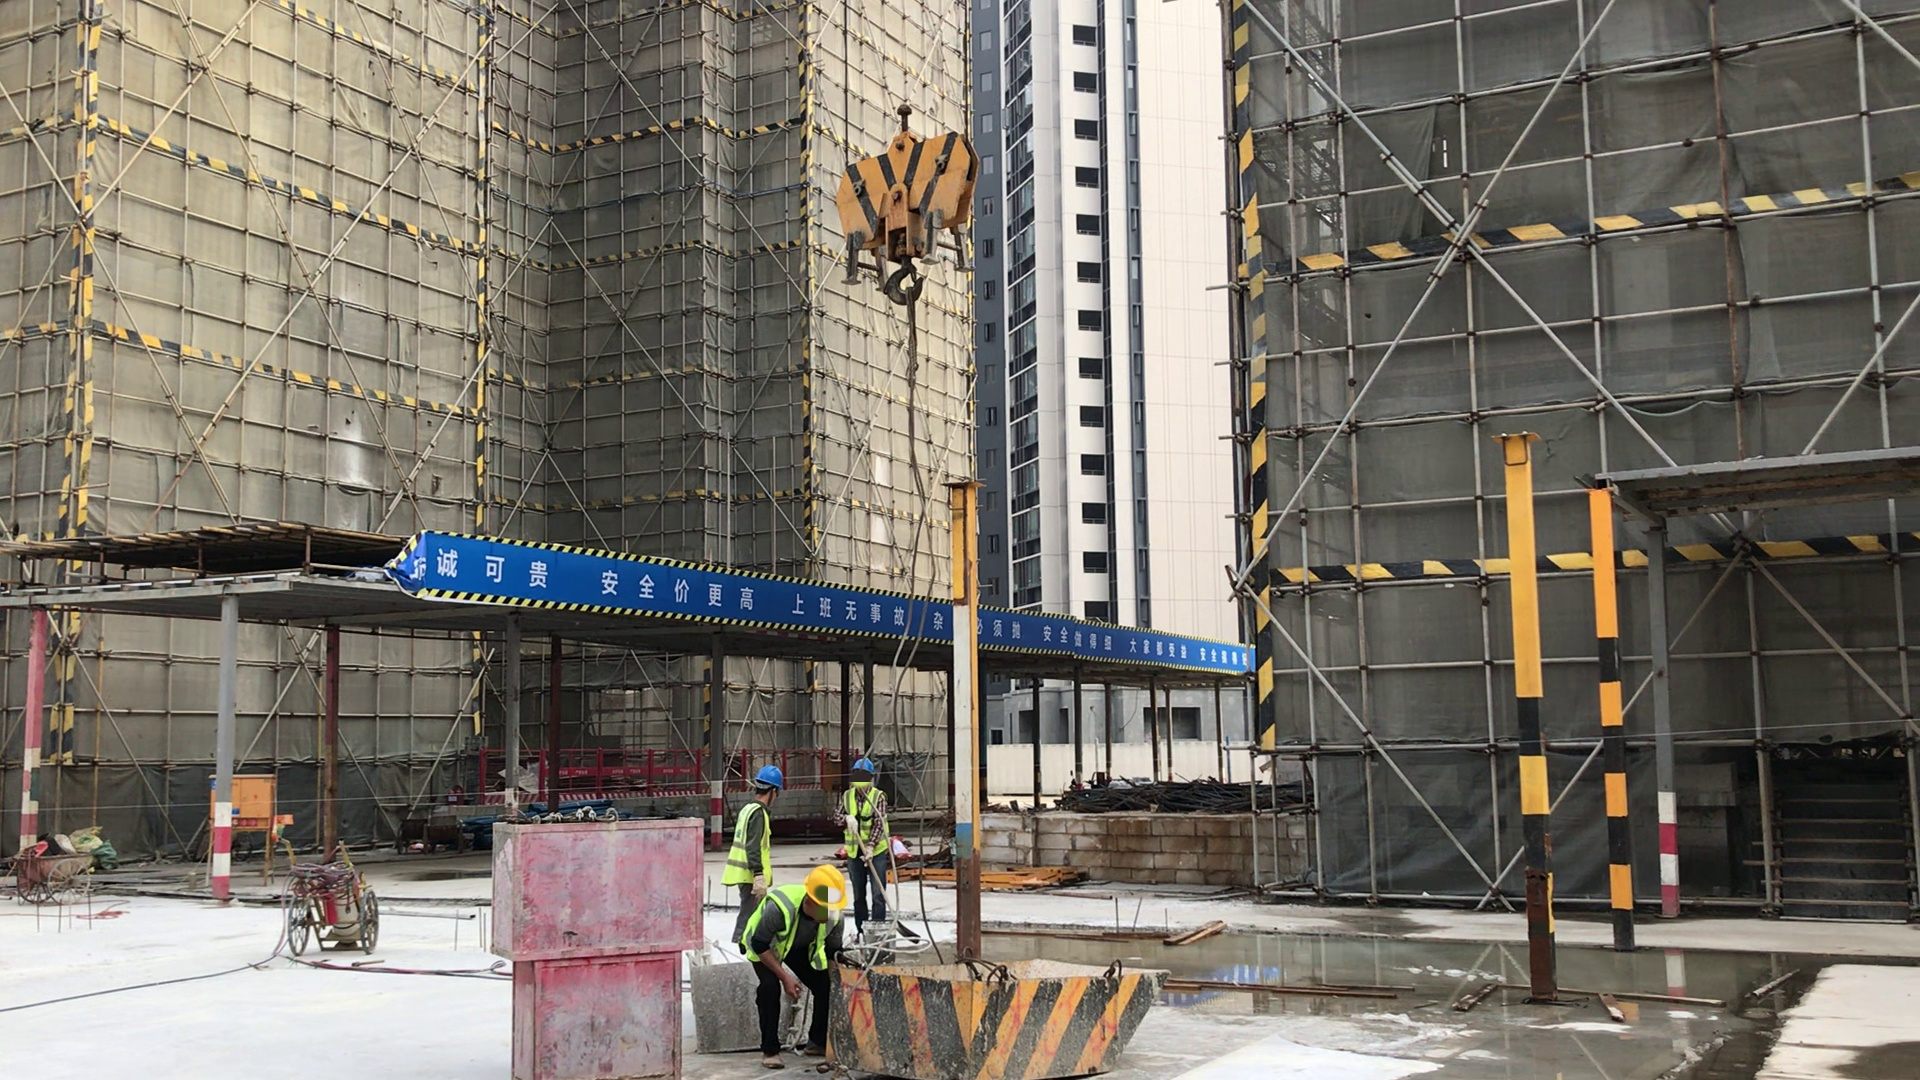ebox: (233, 768, 288, 885)
fence: (428, 537, 941, 648), (982, 605, 1252, 674), (565, 744, 710, 801), (790, 747, 831, 791)
handcart: (277, 841, 381, 958), (1, 854, 93, 912)
helmet: (801, 865, 847, 912), (752, 764, 785, 795), (851, 759, 875, 776)
hook: (834, 95, 974, 302)
hopper: (826, 949, 1168, 1080), (685, 953, 752, 1056)
person: (741, 862, 848, 1071), (724, 763, 786, 941), (833, 756, 892, 927)
vest: (736, 884, 831, 972), (723, 803, 777, 891), (837, 784, 890, 859)
